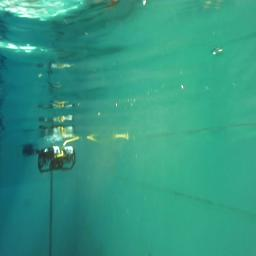Full: (21, 145, 36, 156), (22, 146, 36, 155)
back: (39, 144, 76, 173)
front: (38, 146, 76, 173)
